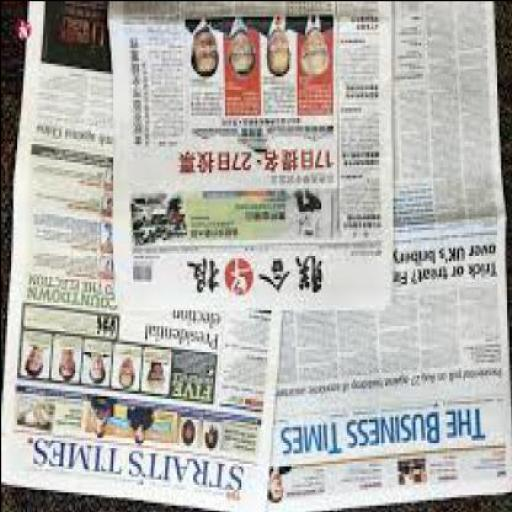paper: (1, 2, 283, 511), (268, 2, 511, 511), (108, 3, 396, 315)
